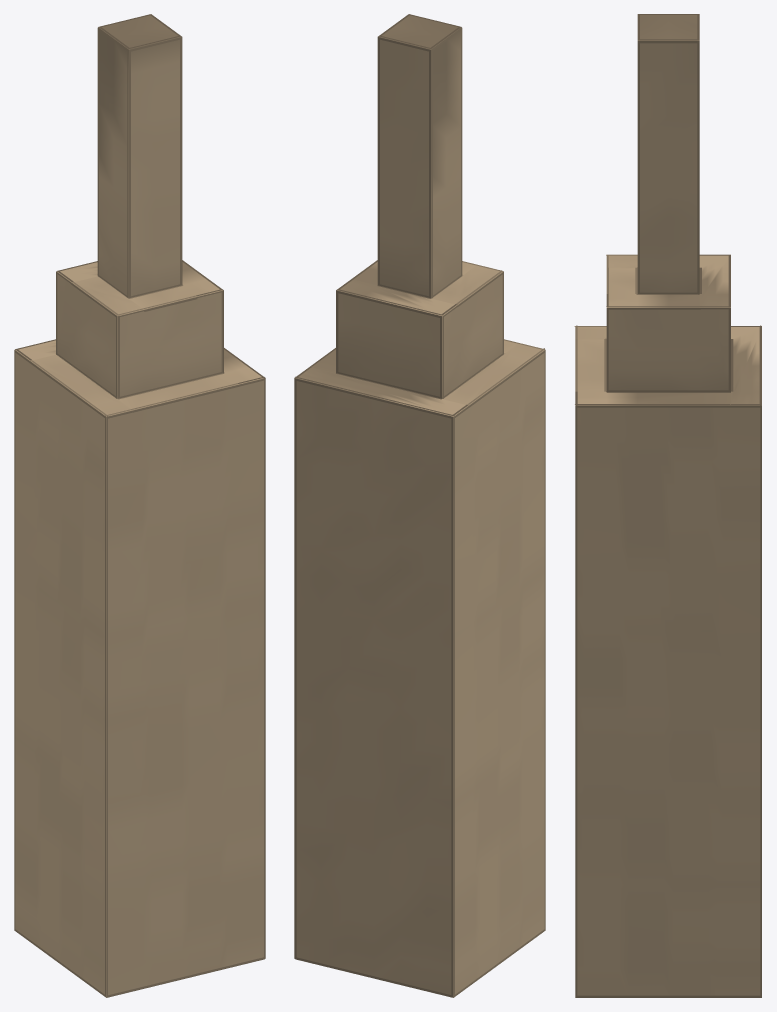
Rendered from post.glb.
The picture shows the model from 3 angles, left to right: view 1: azimuth 30°, elevation 25°; view 2: azimuth 150°, elevation 25°; view 3: azimuth 270°, elevation 25°; orthographic projection.
Parts seen in each view (by area): view 1: post; view 2: post; view 3: post.
Boxes of the visible parts, bbox=[...] form: post: bbox=[14, 14, 265, 997]; post: bbox=[294, 14, 545, 997]; post: bbox=[574, 14, 761, 997].
Size of the model in its own units: 0.1208 by 0.6608 by 0.1211.
